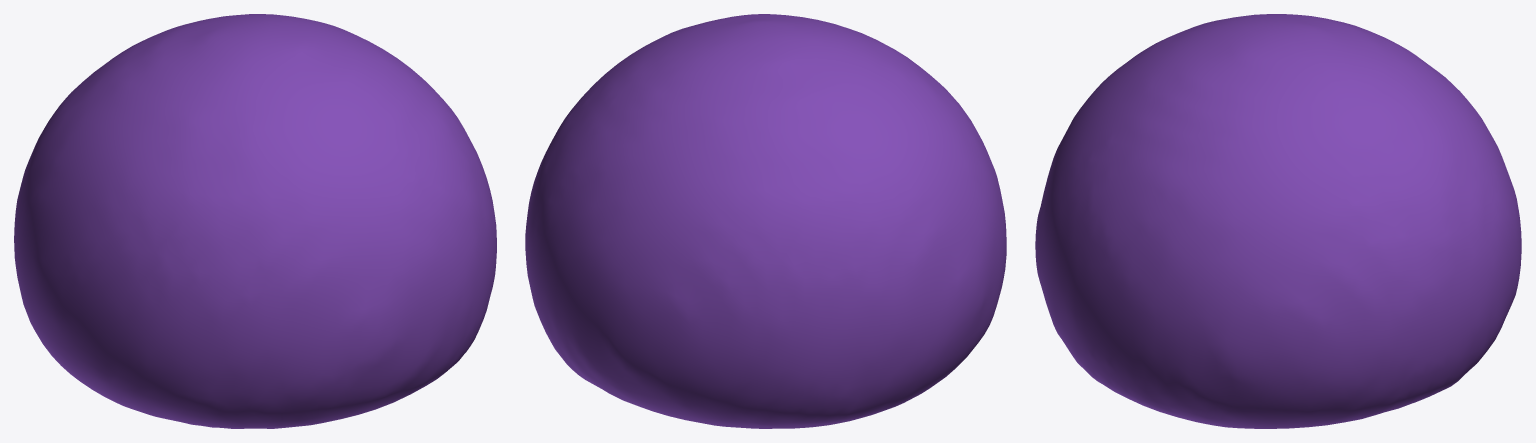
The model's file is slime_0001.dae.
3 views of the same model, side by side, from view 1: azimuth 30°, elevation 25°; view 2: azimuth 150°, elevation 25°; view 3: azimuth 270°, elevation 25° (orthographic).
Parts seen in each view (by area): view 1: Slime; view 2: Slime; view 3: Slime.
Boxes of the visible parts, x1=… form: Slime: x1=14, y1=14, x2=496, y2=428; Slime: x1=525, y1=14, x2=1006, y2=428; Slime: x1=1035, y1=14, x2=1521, y2=428.
Bounding box in the file's own units: 2.06 × 1.55 × 2.06.
